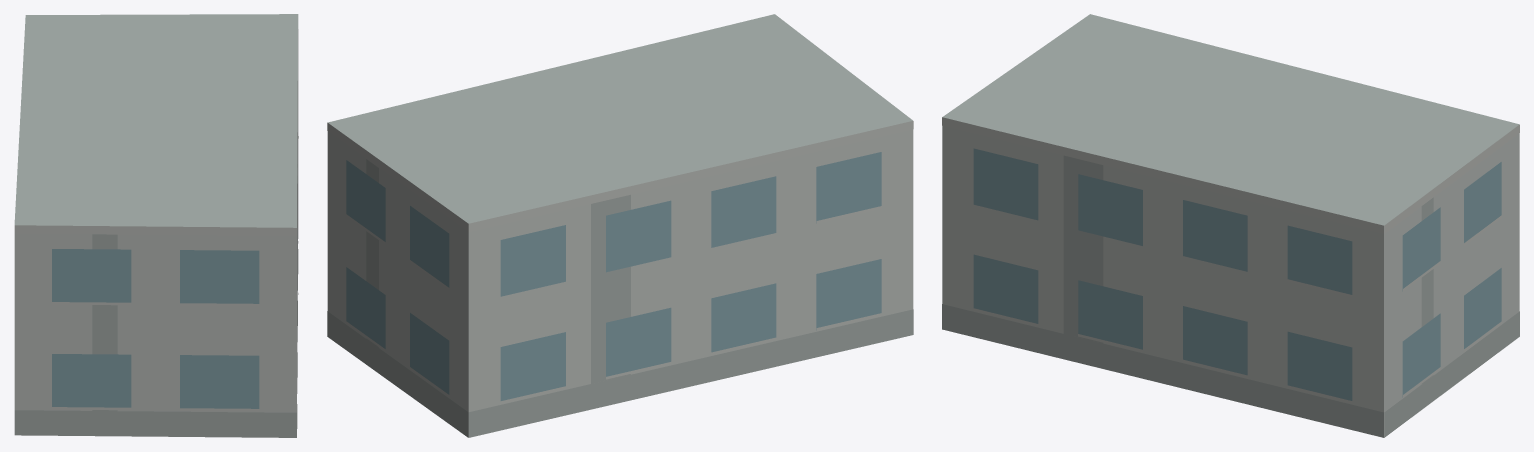
Rendered from survey-upis-32783991.glb.
3 renders of one model, left to right at view 1: azimuth 30°, elevation 25°; view 2: azimuth 150°, elevation 25°; view 3: azimuth 270°, elevation 25°, orthographic.
Visible parts, largest first — view 1: survey-upis-32783991.tmp; view 2: survey-upis-32783991.tmp; view 3: survey-upis-32783991.tmp.
Part boxes in pixels (box(x1,y1,x2,y2)): survey-upis-32783991.tmp: box(14, 14, 298, 437); survey-upis-32783991.tmp: box(327, 14, 913, 437); survey-upis-32783991.tmp: box(942, 14, 1519, 437).
Bounding box in the file's own units: 13.06 × 6.1 × 15.06.
